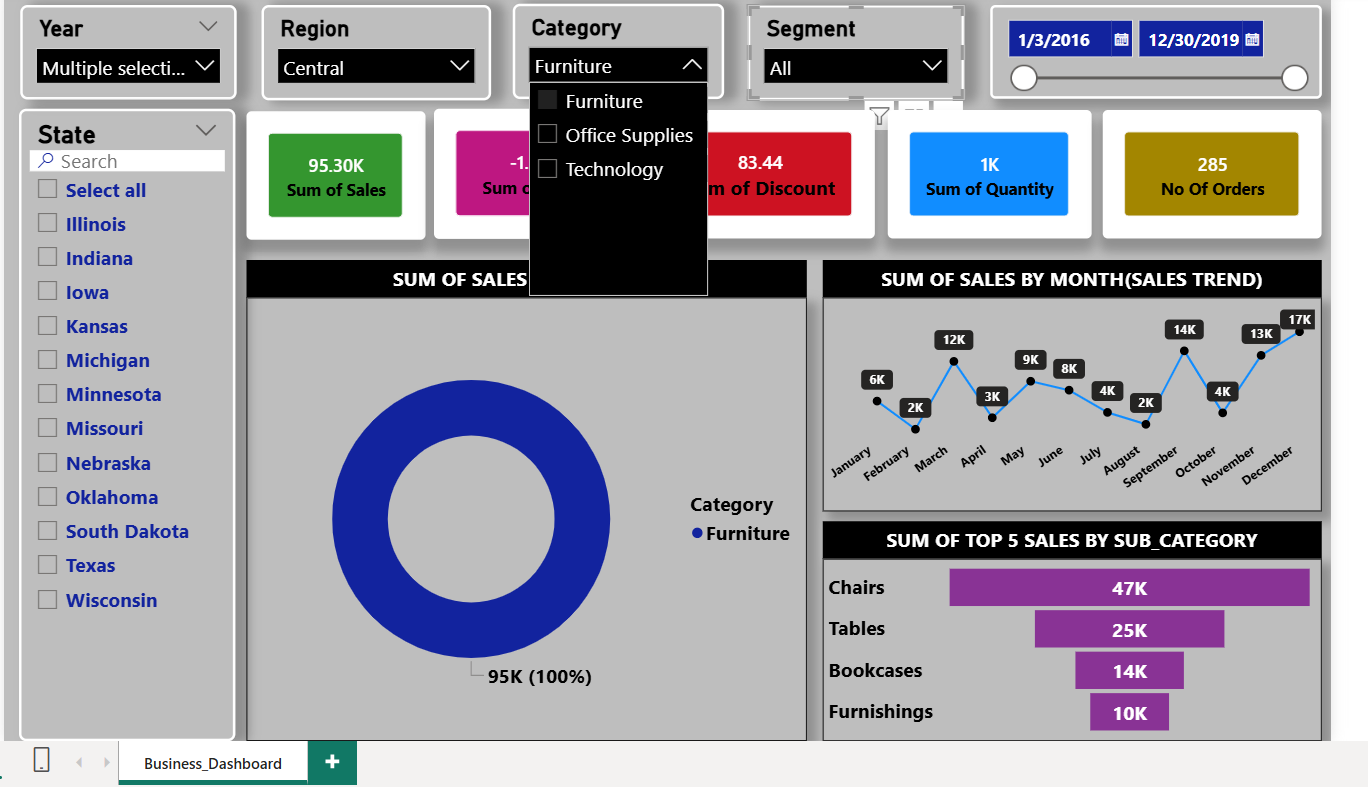

Layout of this report page (visuals, bound fields, positions):
{"tool":"powerbi","page":{"name":"Business_Dashboard","canvas":[1280,720],"ordinal":0},"visuals":[{"type":"slicer","fields":{"Values":["DATA.Order_Date.Variation.Date Hierarchy.Year"]},"box":[16.2,10,208.8,91.2],"z":0},{"type":"slicer","fields":{"Values":["DATA.Region"]},"box":[248.5,9.7,222,91.7],"z":1000},{"type":"slicer","fields":{"Values":["DATA.Category"]},"box":[491,8.4,203.9,91.7],"z":2000},{"type":"slicer","fields":{"Values":["DATA.Segment"]},"box":[717.8,9.7,208.7,91.7],"z":3000},{"type":"slicer","fields":{"Values":["DATA.State"]},"box":[15,110,208.8,610],"z":4000},{"type":"slicer","fields":{"Values":["DATA.Order_Date"]},"box":[951.9,9.7,319.7,90.5],"z":5000},{"type":"cardVisual","fields":{"Data":["Sum(DATA.Sales)"]},"box":[234,112.2,172.5,124.3],"z":6000},{"type":"cardVisual","fields":{"Data":["Sum(DATA.Profit)"]},"box":[415,109.8,193,125.5],"z":7000},{"type":"cardVisual","fields":{"Data":["Sum(DATA.Discount)"]},"box":[618.9,111,222,124.3],"z":8000},{"type":"cardVisual","fields":{"Data":["Sum(DATA.Quantity)"]},"box":[853,111,196.6,124.3],"z":9000},{"type":"cardVisual","fields":{"Data":["CountNonNull(DATA.Order ID)"]},"box":[1060.5,111,211.1,124.3],"z":10000},{"type":"lineChart","fields":{"Category":["DATA.Order_Date.Variation.Date Hierarchy.Month"],"Y":["Sum(DATA.Sales)"]},"box":[790.2,292,481.4,206.3],"z":11000},{"type":"textbox","box":[790.2,255.8,481.4,36.2],"z":12000},{"type":"funnel","fields":{"Category":["DATA.Sub_Category"],"Y":["Sum(DATA.Sales)"]},"box":[790.2,544.1,481.4,176.1],"z":13000},{"type":"textbox","box":[790.2,507.9,481.4,36.2],"z":14000},{"type":"donutChart","fields":{"Category":["DATA.Category"],"Y":["Sum(DATA.Sales)"]},"box":[234,292,540.5,428.3],"z":14001},{"type":"textbox","box":[234,255.8,540.5,36.2],"z":14002}]}

Visuals, with their boxes in screenshot pixels (x1, y1, x2, y2):
slicer - DATA.Order_Date.Variation.Date Hierarchy.Year: <bbox>3, 0, 223, 92</bbox>
slicer - DATA.Region: <bbox>248, 0, 482, 93</bbox>
slicer - DATA.Category: <bbox>503, 0, 718, 91</bbox>
slicer - DATA.Segment: <bbox>742, 0, 962, 93</bbox>
slicer - DATA.State: <bbox>2, 102, 222, 745</bbox>
slicer - DATA.Order_Date: <bbox>989, 0, 1326, 91</bbox>
cardVisual - Sum(DATA.Sales): <bbox>232, 104, 414, 235</bbox>
cardVisual - Sum(DATA.Profit): <bbox>423, 101, 627, 234</bbox>
cardVisual - Sum(DATA.Discount): <bbox>638, 103, 872, 234</bbox>
cardVisual - Sum(DATA.Quantity): <bbox>885, 103, 1092, 234</bbox>
cardVisual - CountNonNull(DATA.Order ID): <bbox>1103, 103, 1326, 234</bbox>
lineChart - DATA.Order_Date.Variation.Date Hierarchy.Month x Sum(DATA.Sales): <bbox>819, 294, 1326, 511</bbox>
textbox: <bbox>819, 255, 1326, 294</bbox>
funnel - DATA.Sub_Category x Sum(DATA.Sales): <bbox>819, 559, 1326, 745</bbox>
textbox: <bbox>819, 521, 1326, 559</bbox>
donutChart - DATA.Category x Sum(DATA.Sales): <bbox>232, 294, 802, 745</bbox>
textbox: <bbox>232, 255, 802, 294</bbox>
